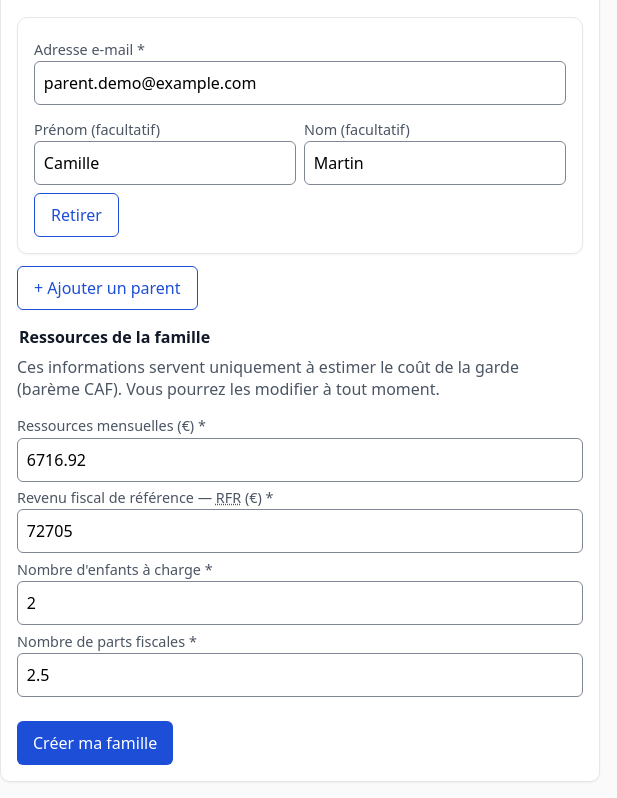
FoyerFormPage › affiche une erreur globale en cas d'erreur serveur
(page scrolled)
Click the button "Créer ma famille" at point(95, 743), box [17,721,173,765]
(page scrolled)
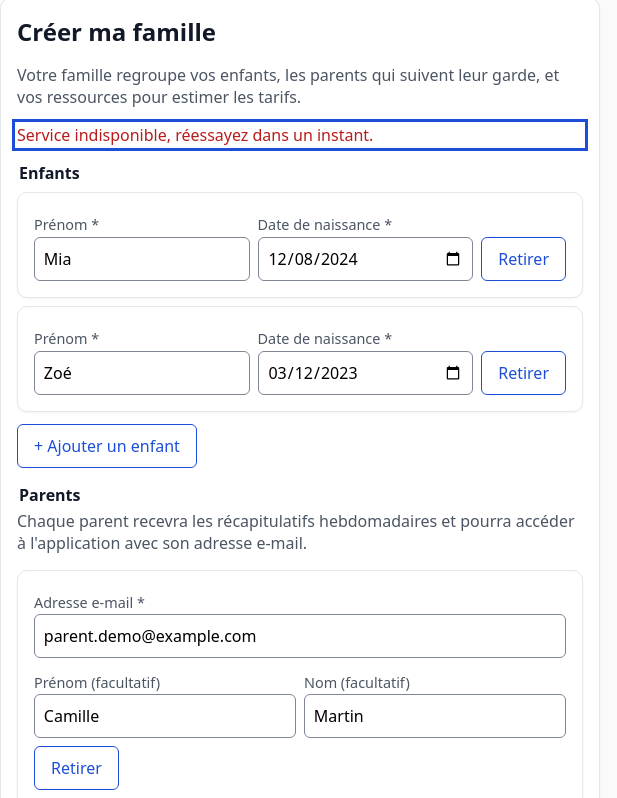
Result: the message "Service indisponible, réessayez dans un instant." is shown at [17,124,373,146]
